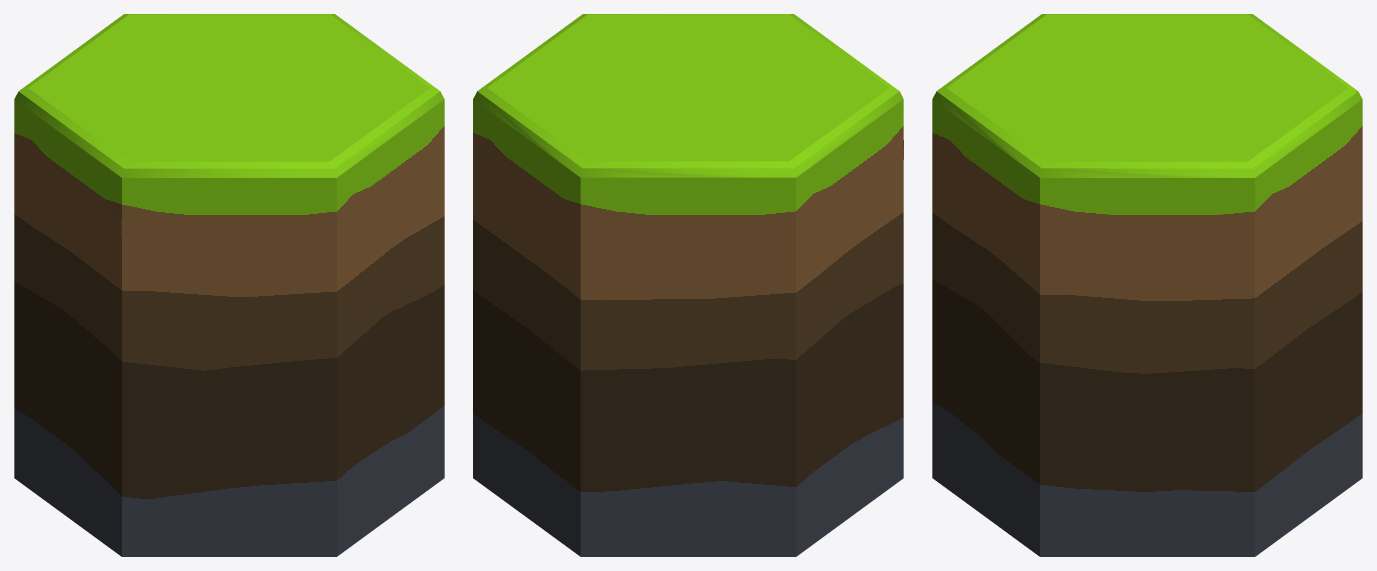
Rendered from HexTileFlat_Grass_v05.glb.
The picture shows the model from 3 angles, left to right: view 1: azimuth 30°, elevation 25°; view 2: azimuth 150°, elevation 25°; view 3: azimuth 270°, elevation 25°; orthographic projection.
Parts seen in each view (by area): view 1: SM_Tile_Hex_Flat_04; view 2: SM_Tile_Hex_Flat_04; view 3: SM_Tile_Hex_Flat_04.
Boxes of the visible parts, x1,y1,x2,y2 form: SM_Tile_Hex_Flat_04: [14, 14, 444, 556]; SM_Tile_Hex_Flat_04: [473, 14, 903, 556]; SM_Tile_Hex_Flat_04: [932, 14, 1362, 556].
Bounding box in the file's own units: 1.73 × 2 × 2.
1 material, 1 textured.
